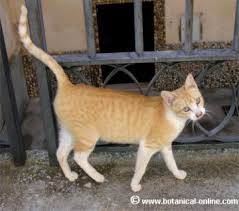cat: (16, 3, 214, 190)
